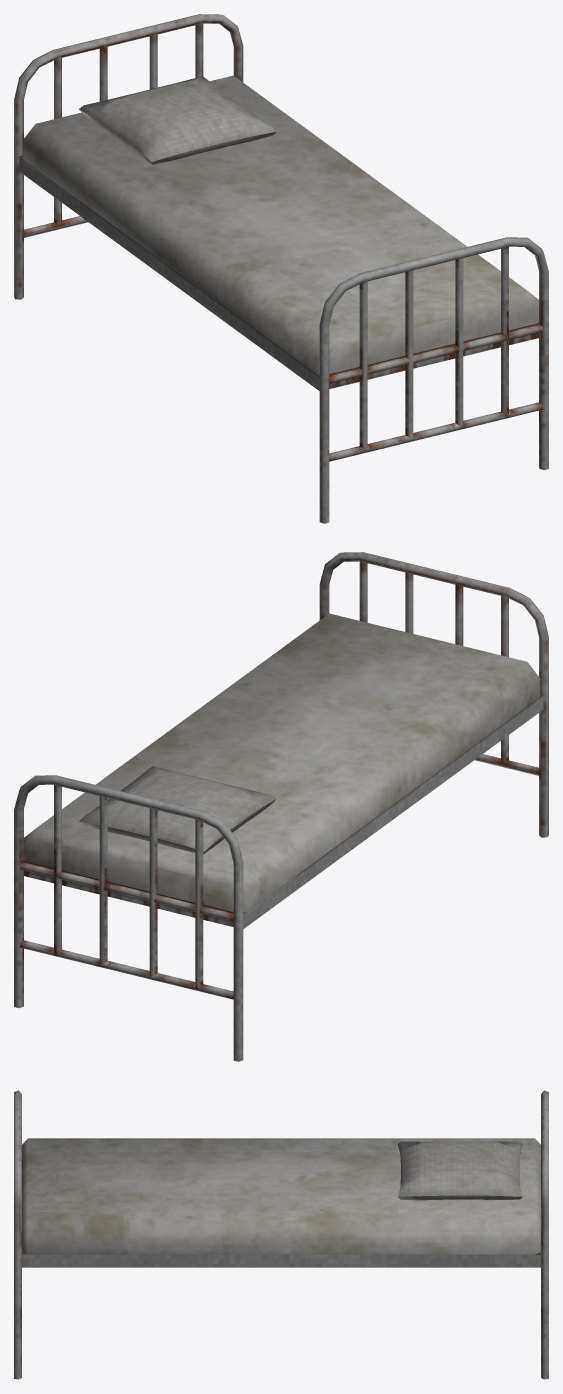
Rendered from bed.fbx.
3 renders of one model, top to bottom at view 1: azimuth 30°, elevation 25°; view 2: azimuth 150°, elevation 25°; view 3: azimuth 270°, elevation 25°, orthographic. The views are drawn at different scales.
Visible parts, largest first — view 1: bed; view 2: bed; view 3: bed.
Boxes of the visible parts, left/top/right/bottom form: bed: left=14, top=14, right=548, bottom=523; bed: left=14, top=552, right=548, bottom=1061; bed: left=14, top=1090, right=548, bottom=1379.
Size of the model in its own units: 80.88 by 80.99 by 190.
1 material, 1 textured.
